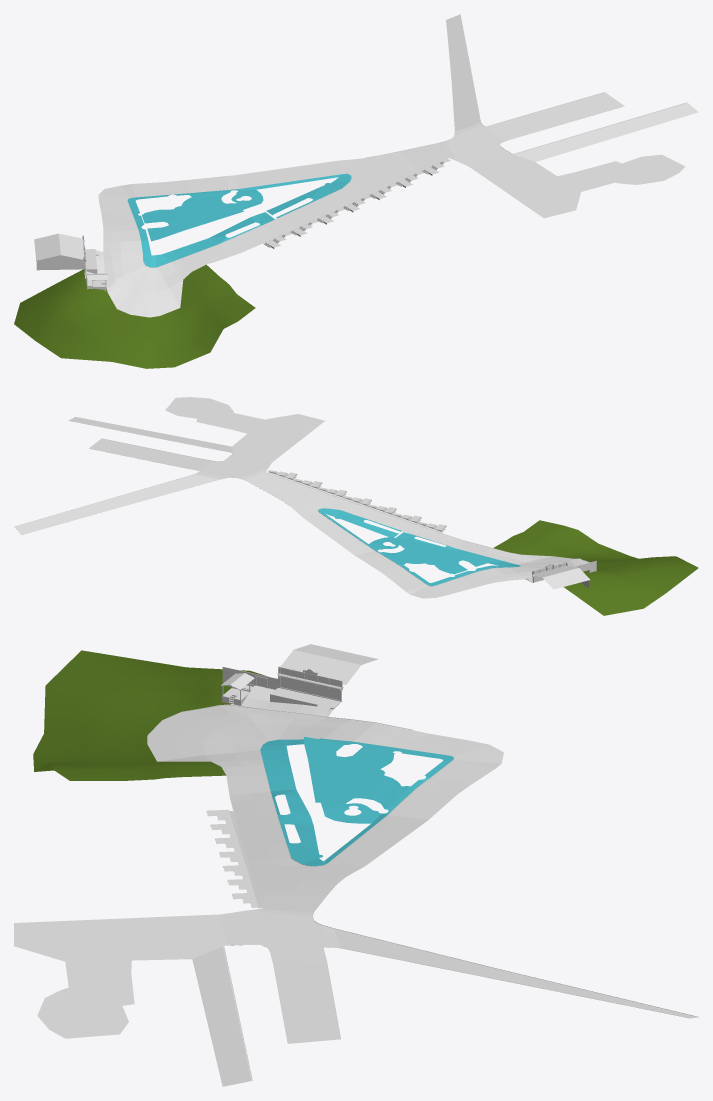
The model's file is alsfalto.fbx.
3 views of the same model, one above another, from view 1: azimuth 30°, elevation 25°; view 2: azimuth 150°, elevation 25°; view 3: azimuth 270°, elevation 25° (orthographic). The views are drawn at different scales.
Visible parts, largest first — view 1: Aslfato, Praca-PisoConcreto, CasaPetita; view 2: Aslfato, Praca-PisoConcreto, CasaPetita; view 3: Aslfato, Praca-PisoConcreto, CasaPetita.
Boxes of the visible parts, x1=… form: Aslfato: x1=14, y1=14, x2=698, y2=368; Praca-PisoConcreto: x1=127, y1=173, x2=351, y2=267; CasaPetita: x1=34, y1=233, x2=107, y2=290; Aslfato: x1=14, y1=397, x2=698, y2=615; Praca-PisoConcreto: x1=318, y1=508, x2=520, y2=585; CasaPetita: x1=524, y1=558, x2=596, y2=589; Aslfato: x1=14, y1=650, x2=698, y2=1086; Praca-PisoConcreto: x1=260, y1=737, x2=453, y2=866; CasaPetita: x1=221, y1=644, x2=378, y2=716.
Size of the model in its own units: 26518 by 2617 by 15243.
